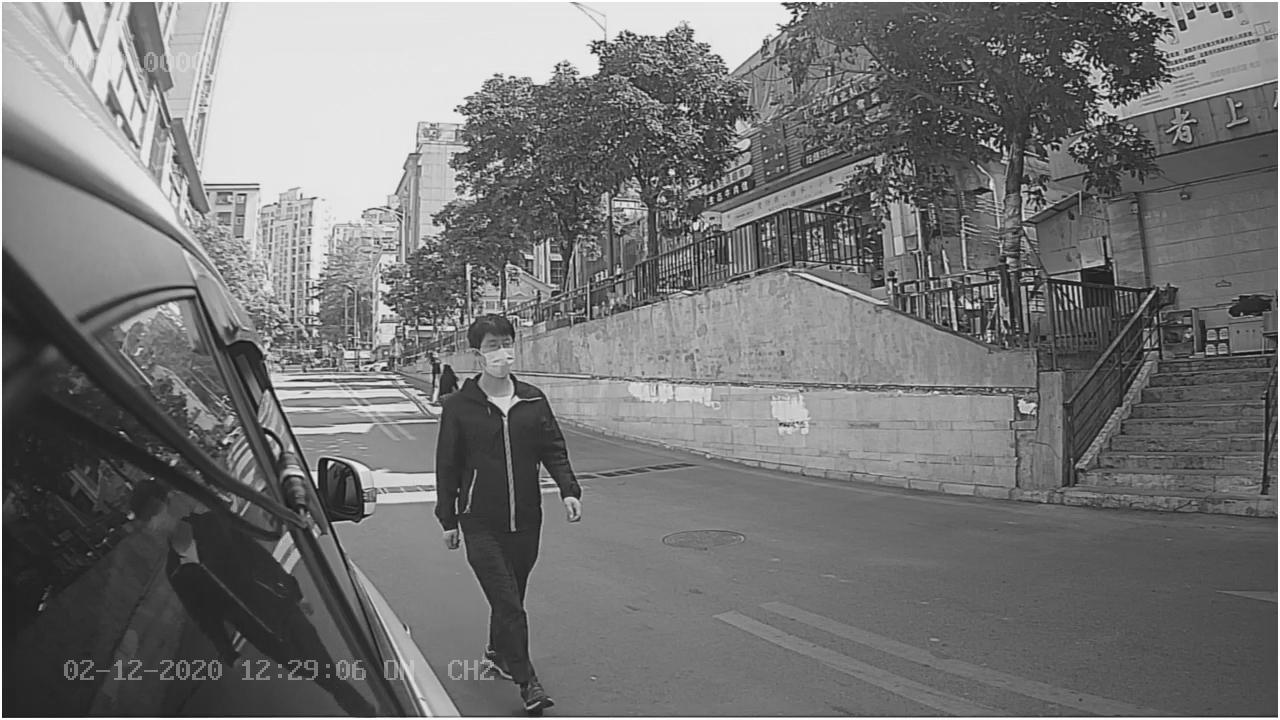person: (419, 310, 601, 712)
